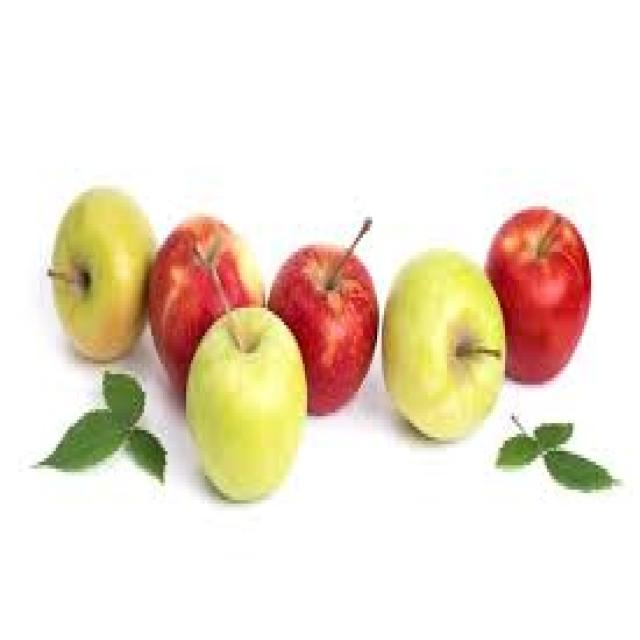non_orange: (177, 266, 325, 546), (358, 205, 512, 457), (251, 192, 406, 438), (130, 170, 306, 386), (453, 158, 604, 408), (25, 164, 181, 394)
